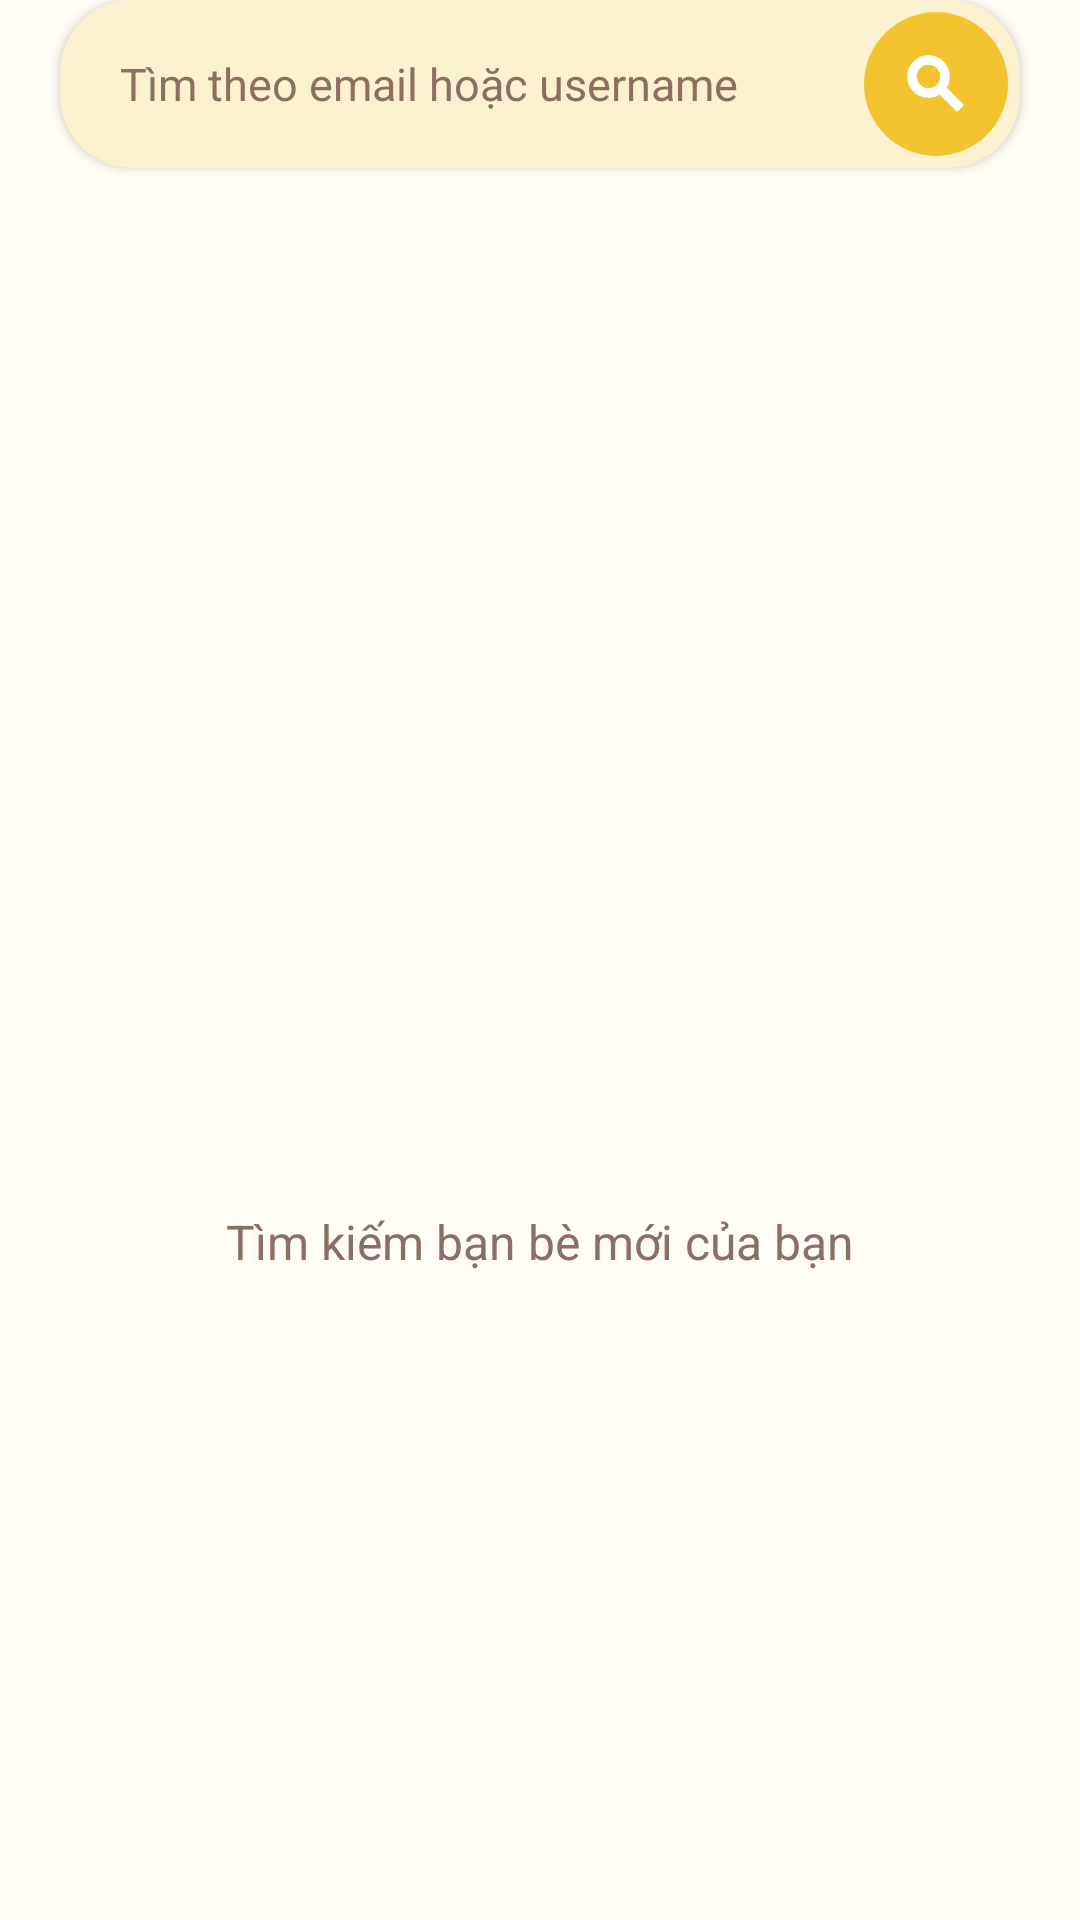

Icon bounding boxes for this 1080×1920 phone screenshot, format (x1, y1, x2, y2):
Search: (864, 12, 1008, 156)
